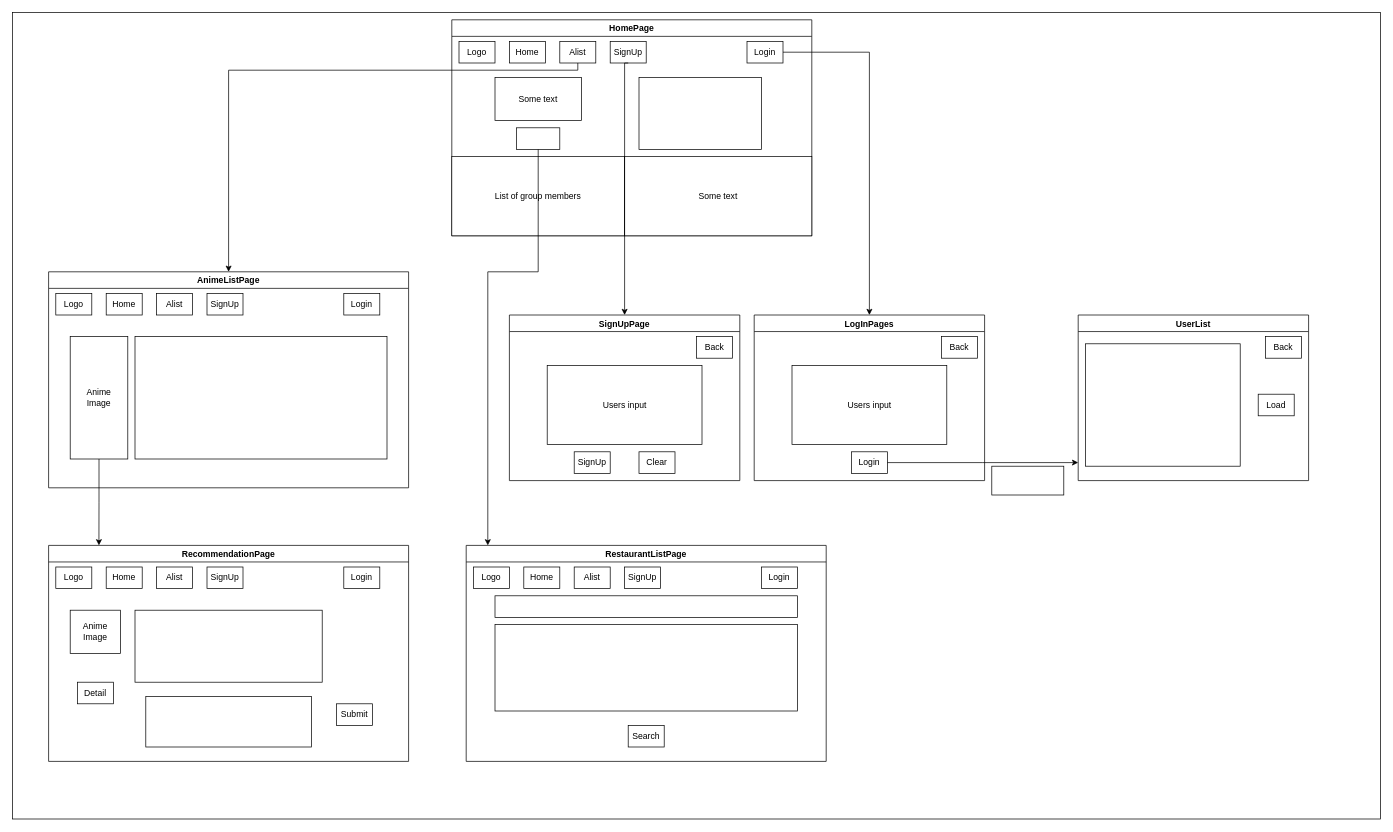
Some shapes in this 1393 by 832 pixel diagram are drawn without their labels. Each missing label, with the centre of its shape:
"Anime Detail" belongs at (x=260, y=397).
"Anime Pic" belongs at (x=699, y=113).
"Blist" belongs at (x=538, y=138).
"If admin logged in" belongs at (x=1027, y=480).
"Information for Searching" belongs at (x=645, y=606).
"Input box" belongs at (x=228, y=721).
"List of User" belongs at (x=1162, y=404).
"Recommendations" belongs at (x=228, y=645).
"Result" belongs at (x=645, y=667).
